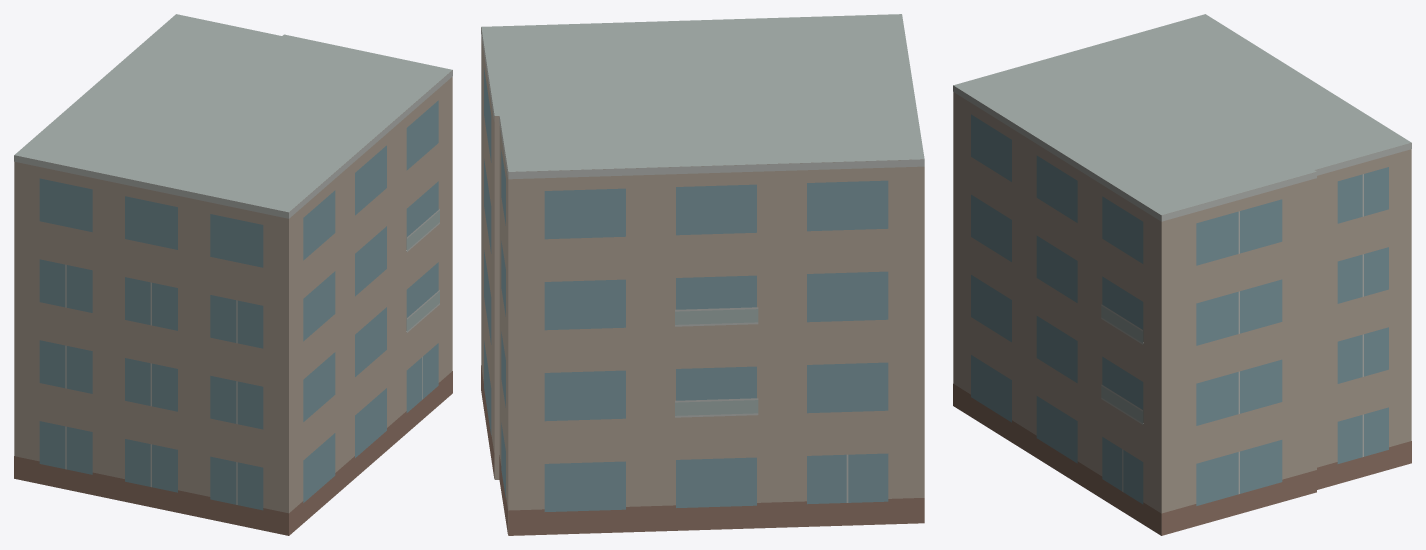
File: survey-upis-32926352.glb
3 views of the same model, side by side, from view 1: azimuth 30°, elevation 25°; view 2: azimuth 150°, elevation 25°; view 3: azimuth 270°, elevation 25° (orthographic). The views are drawn at different scales.
Visible parts, largest first — view 1: survey-upis-32926352.tmp; view 2: survey-upis-32926352.tmp; view 3: survey-upis-32926352.tmp.
Boxes of the visible parts, x1,y1,x2,y2 form: survey-upis-32926352.tmp: [14, 14, 452, 535]; survey-upis-32926352.tmp: [481, 14, 924, 535]; survey-upis-32926352.tmp: [953, 14, 1411, 535].
Size of the model in its own units: 16.44 by 12.2 by 15.83.
